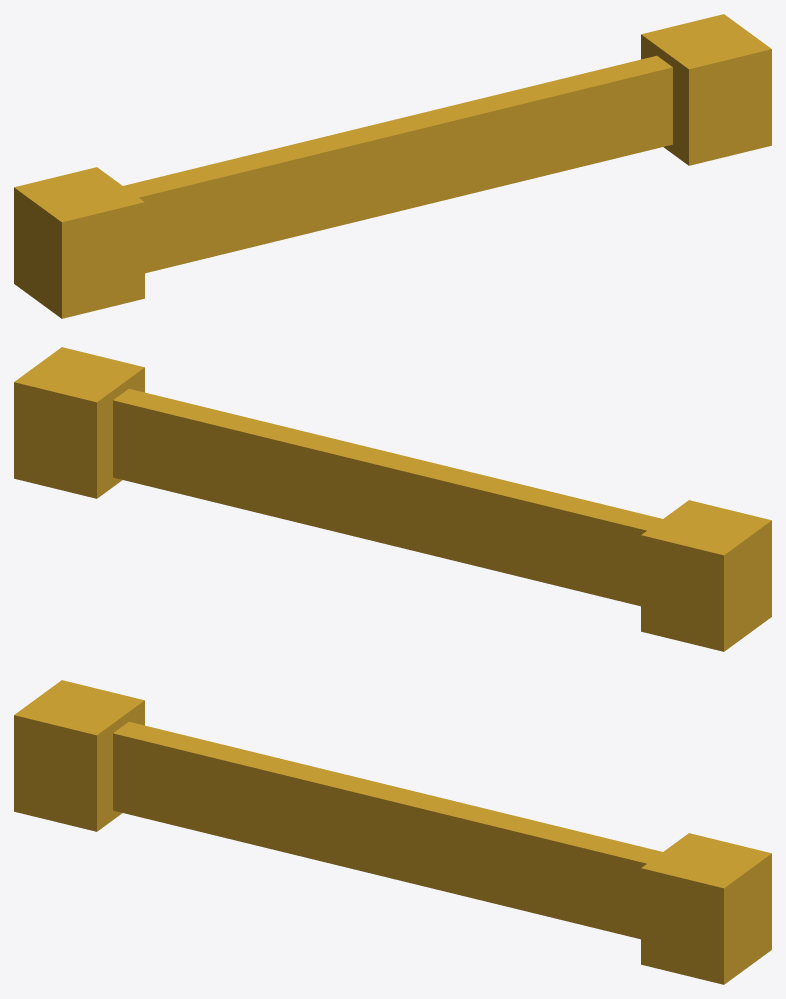
File: bridge_4_pillar.glb
The picture shows the model from 3 angles, top to bottom: view 1: azimuth 30°, elevation 25°; view 2: azimuth 150°, elevation 25°; view 3: azimuth 330°, elevation 25°; orthographic projection.
Size of the model in its own units: 7.7 by 1 by 0.9.
